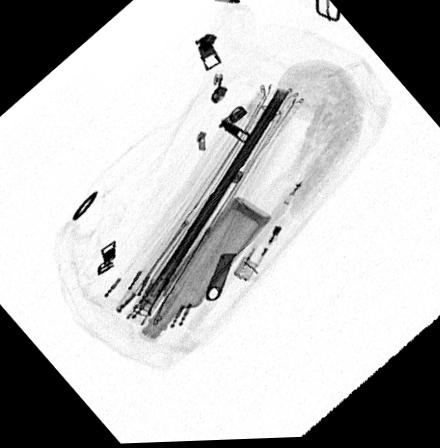Lighter: (232, 174, 322, 286)
